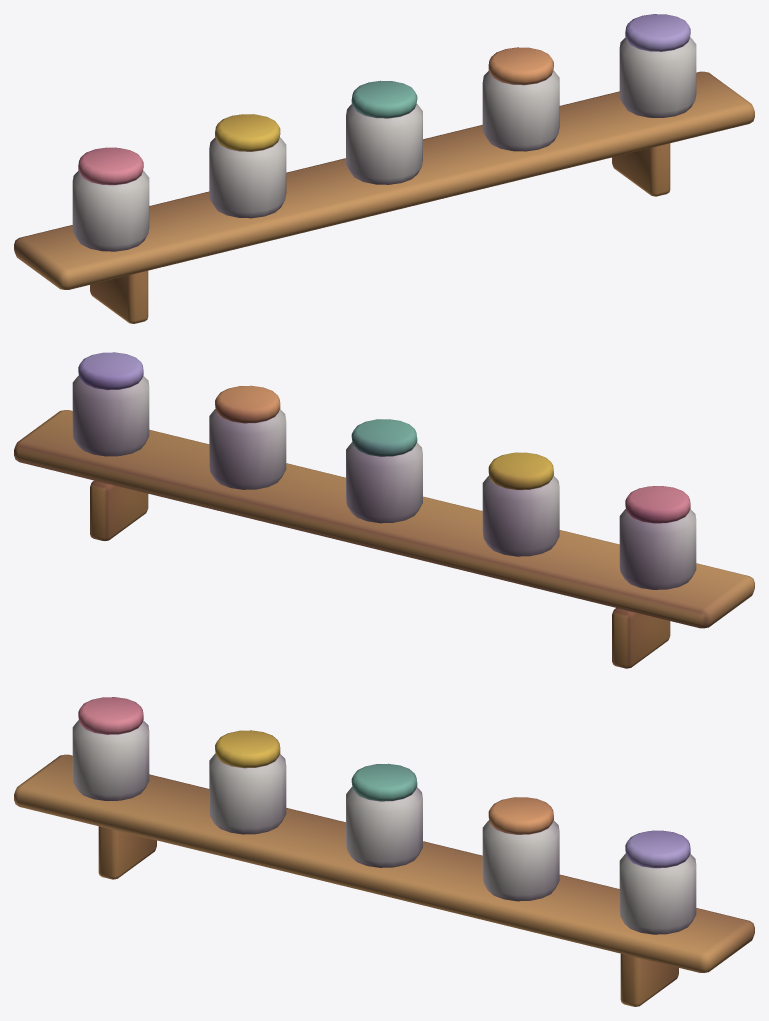
File: shelf_classic.glb
3 renders of one model, top to bottom at view 1: azimuth 30°, elevation 25°; view 2: azimuth 150°, elevation 25°; view 3: azimuth 330°, elevation 25°, orthographic.
Parts seen in each view (by area): view 1: shelf_classic; view 2: shelf_classic; view 3: shelf_classic.
Part boxes in pixels (x1,y1,x2,y2): shelf_classic: (14,14,754,323); shelf_classic: (14,352,754,668); shelf_classic: (14,697,754,1006).
Size of the model in its own units: 2.24 by 0.4799 by 0.2879.
